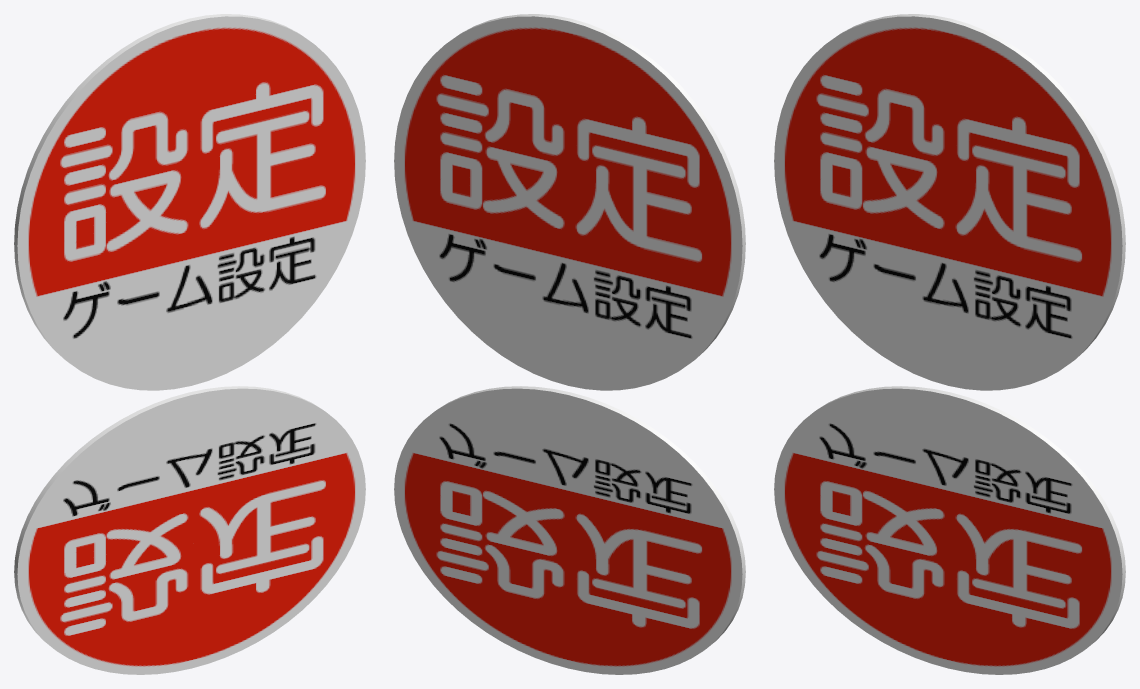
The model's file is ICON_OPTION.glb.
3 views of the same model, side by side, from view 1: azimuth 30°, elevation 25°; view 2: azimuth 150°, elevation 25°; view 3: azimuth 330°, elevation 25° (orthographic).
Parts seen in each view (by area): view 1: obj1, Kanban_M; view 2: obj1, Kanban_M; view 3: obj1, Kanban_M.
Boxes of the visible parts, x1,y1,x2,y2 form: obj1: (14, 14, 365, 390); Kanban_M: (14, 386, 365, 674); obj1: (394, 14, 745, 390); Kanban_M: (394, 386, 745, 674); obj1: (774, 14, 1125, 390); Kanban_M: (774, 386, 1125, 674).
Size of the model in its own units: 6 by 10.65 by 0.1122.
6 materials, 6 textured.
